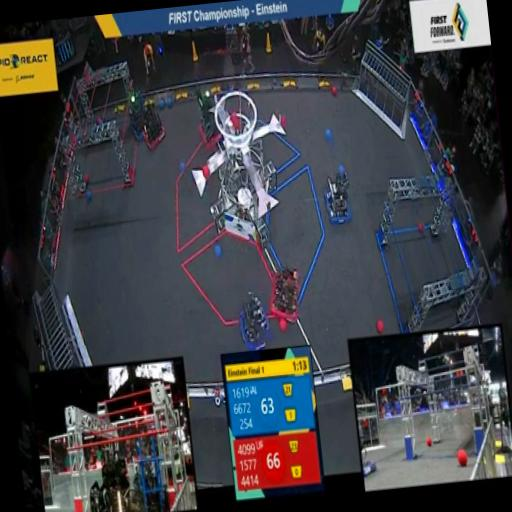robot: (192, 79, 232, 156), (266, 260, 306, 332), (317, 158, 357, 230), (234, 284, 272, 358), (138, 98, 172, 158), (124, 84, 154, 148)
